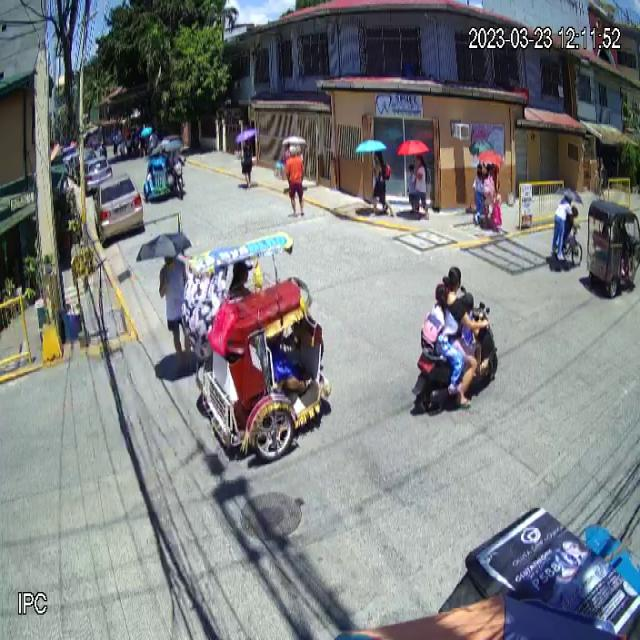Tricycle: (183, 228, 333, 468)
